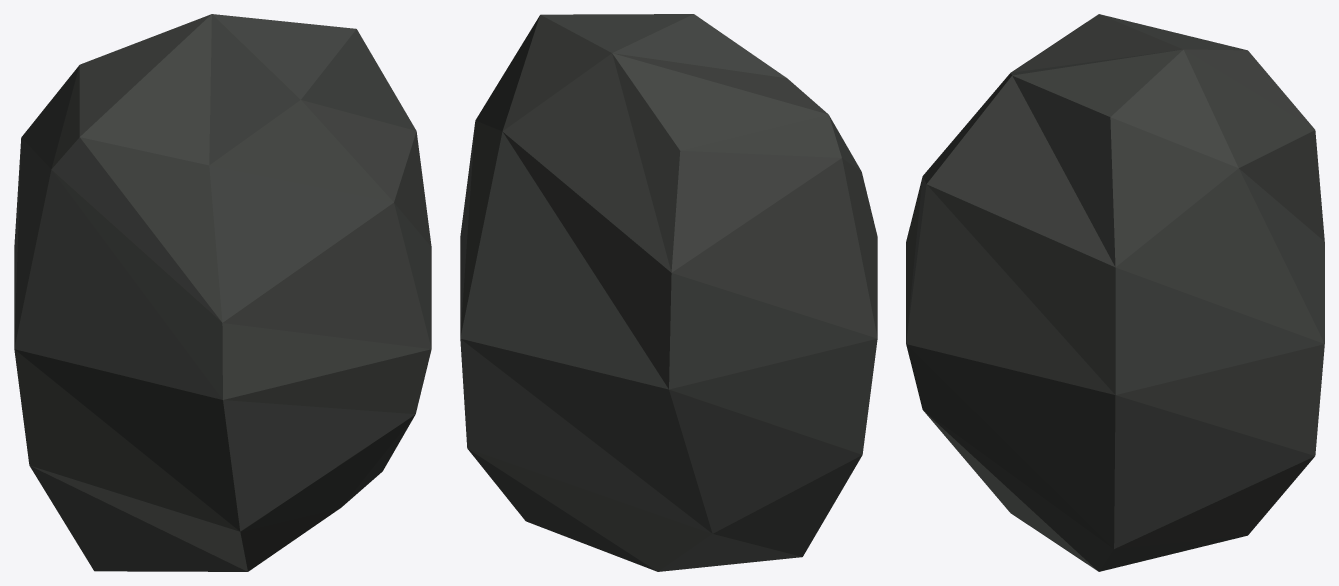
The model's file is Rock_Black_3.fbx.
3 renders of one model, left to right at view 1: azimuth 30°, elevation 25°; view 2: azimuth 150°, elevation 25°; view 3: azimuth 270°, elevation 25°, orthographic.
Parts seen in each view (by area): view 1: Rock_Black_3; view 2: Rock_Black_3; view 3: Rock_Black_3.
Boxes of the visible parts, x1,y1,x2,y2 form: Rock_Black_3: (14, 14, 431, 571); Rock_Black_3: (460, 14, 877, 571); Rock_Black_3: (906, 14, 1324, 571).
Size of the model in its own units: 2 by 2.32 by 1.73.
